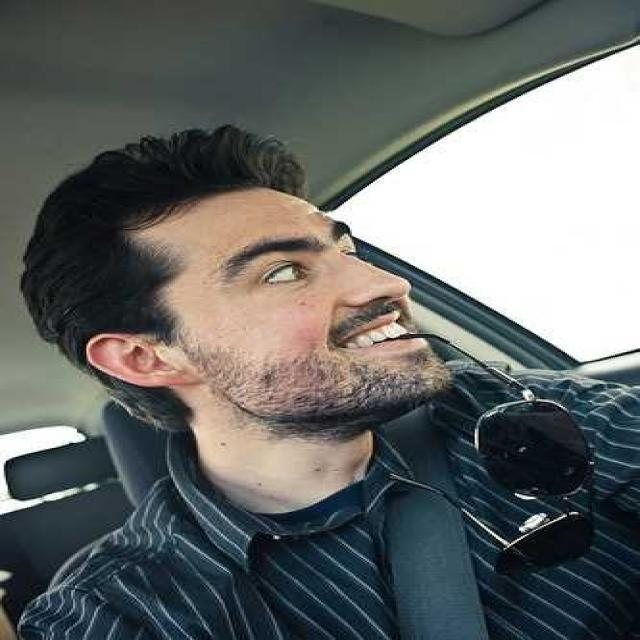awake: (246, 247, 329, 311)
seatbelt: (364, 397, 506, 640)
